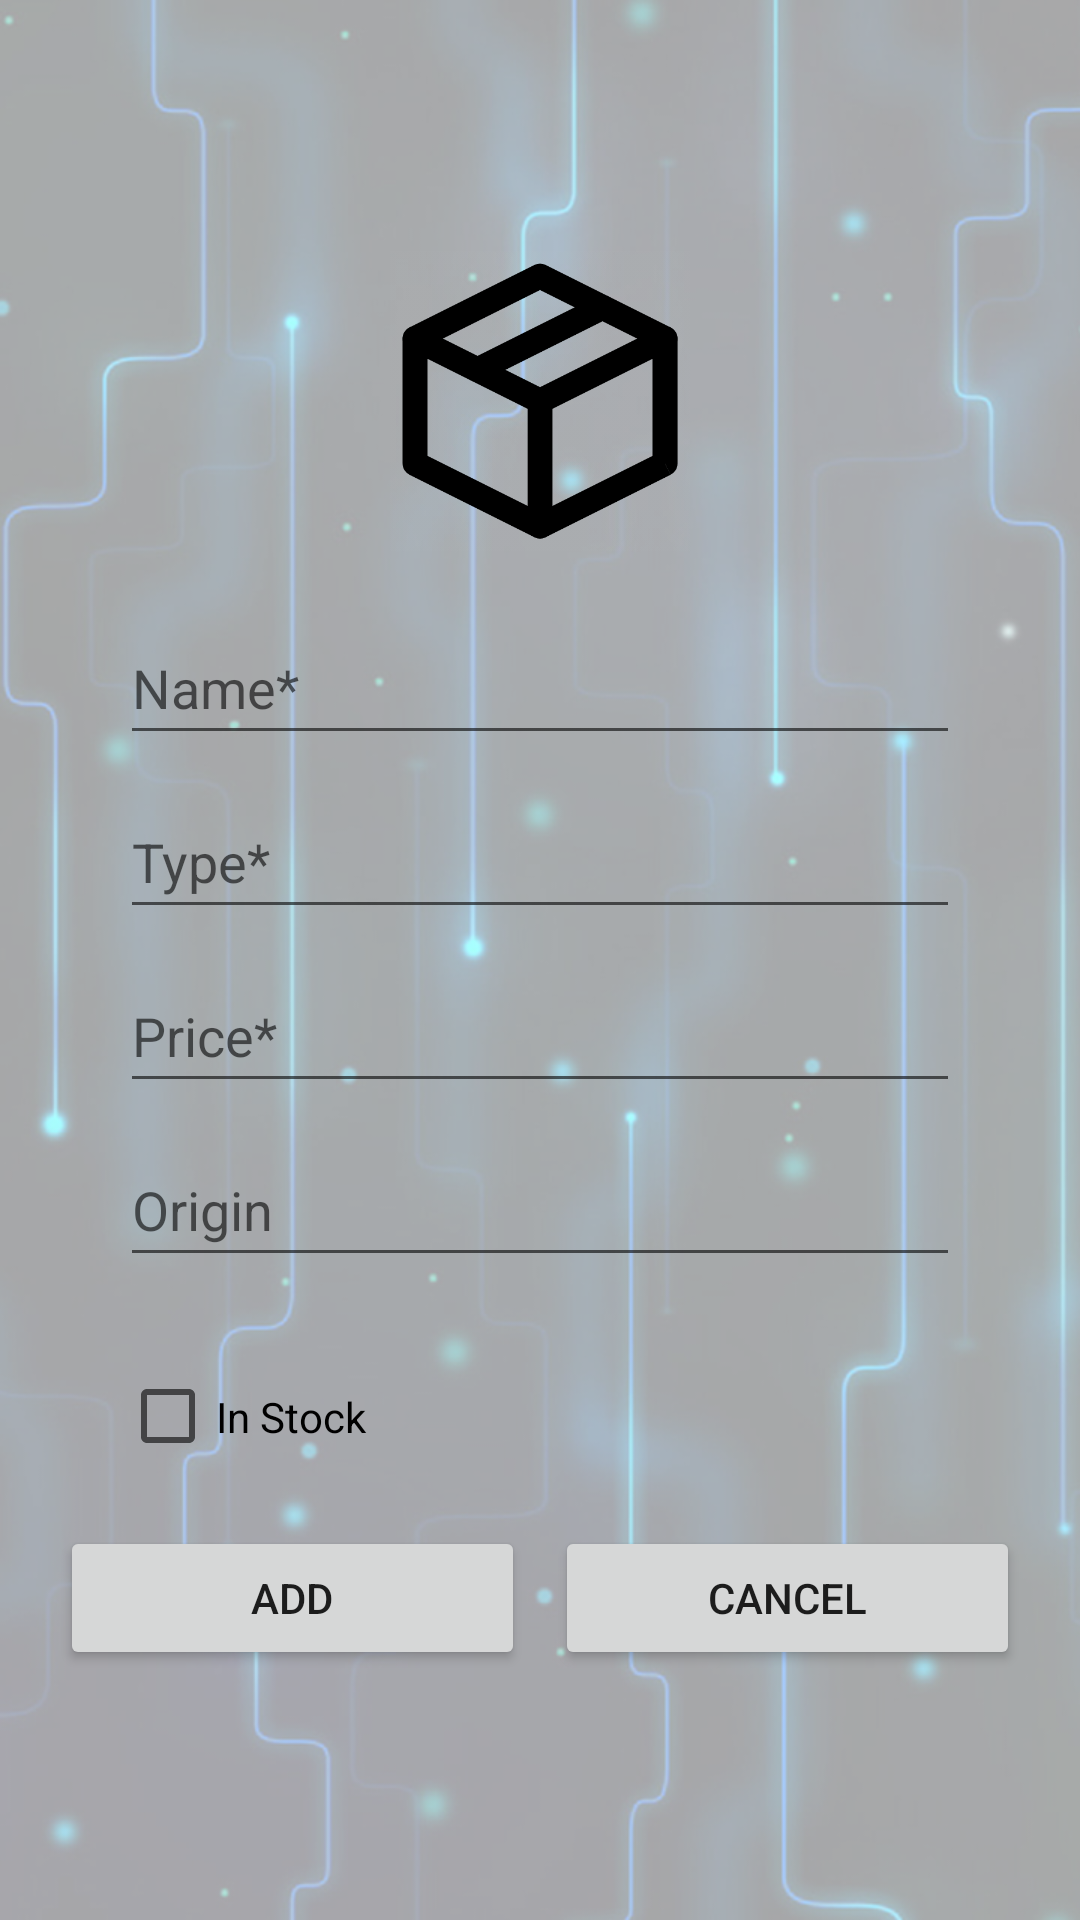

Point at icon controls on the screen. Image size 1080×1920, points as [x,y].
product: [540,401]
